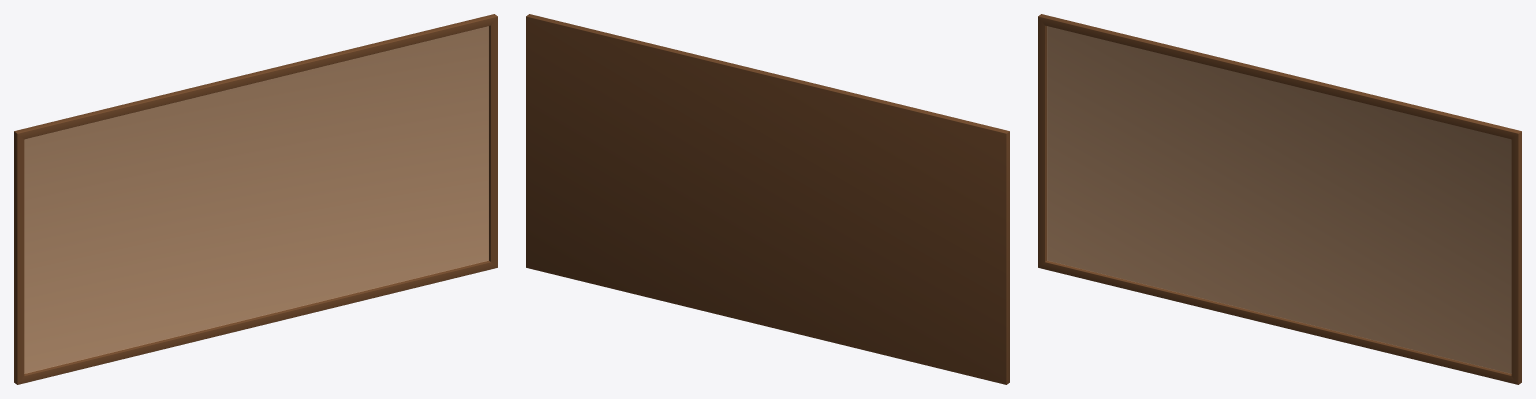
Rendered from cork_board_clean.glb.
The picture shows the model from 3 angles, left to right: view 1: azimuth 30°, elevation 25°; view 2: azimuth 150°, elevation 25°; view 3: azimuth 330°, elevation 25°; orthographic projection.
Visible parts, largest first — view 1: PHOTO_BOARD_SURFACE, PHOTO_BOARD_FRAME; view 2: PHOTO_BOARD_FRAME; view 3: PHOTO_BOARD_SURFACE, PHOTO_BOARD_FRAME.
Boxes of the visible parts, box(x1,y1,x2,y2) form: PHOTO_BOARD_SURFACE: box(24, 26, 488, 373); PHOTO_BOARD_FRAME: box(14, 14, 497, 384); PHOTO_BOARD_FRAME: box(526, 14, 1009, 384); PHOTO_BOARD_SURFACE: box(1047, 26, 1511, 373); PHOTO_BOARD_FRAME: box(1038, 14, 1521, 384).
Size of the model in its own units: 2 by 1 by 0.025.
